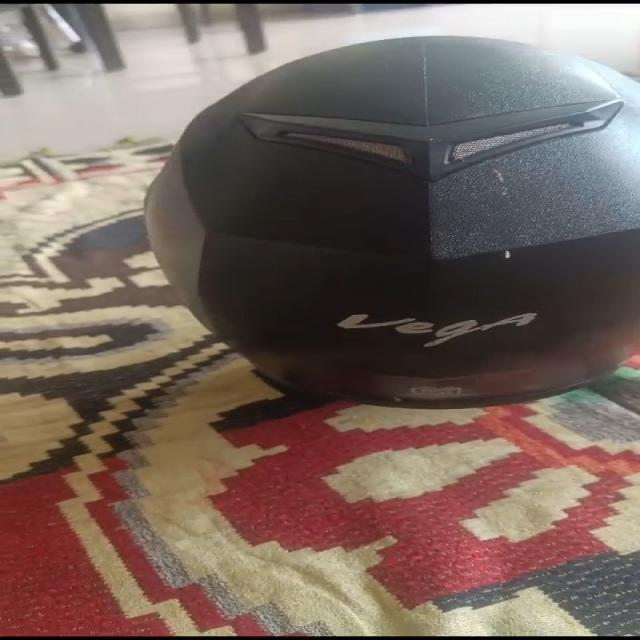Helmet: (144, 36, 640, 409)
